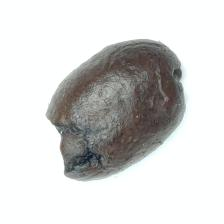NG: (44, 100, 114, 183), (162, 45, 186, 112)
